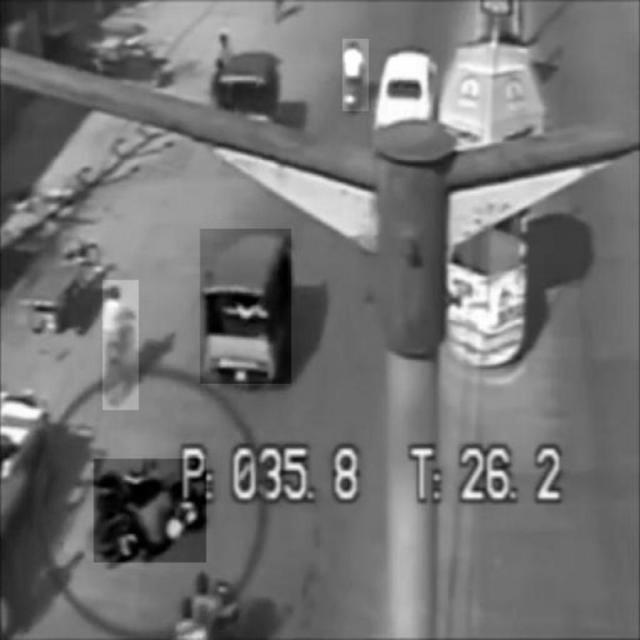vehicle: (200, 230, 291, 384), (94, 459, 206, 562), (103, 280, 139, 410), (343, 39, 369, 111)
